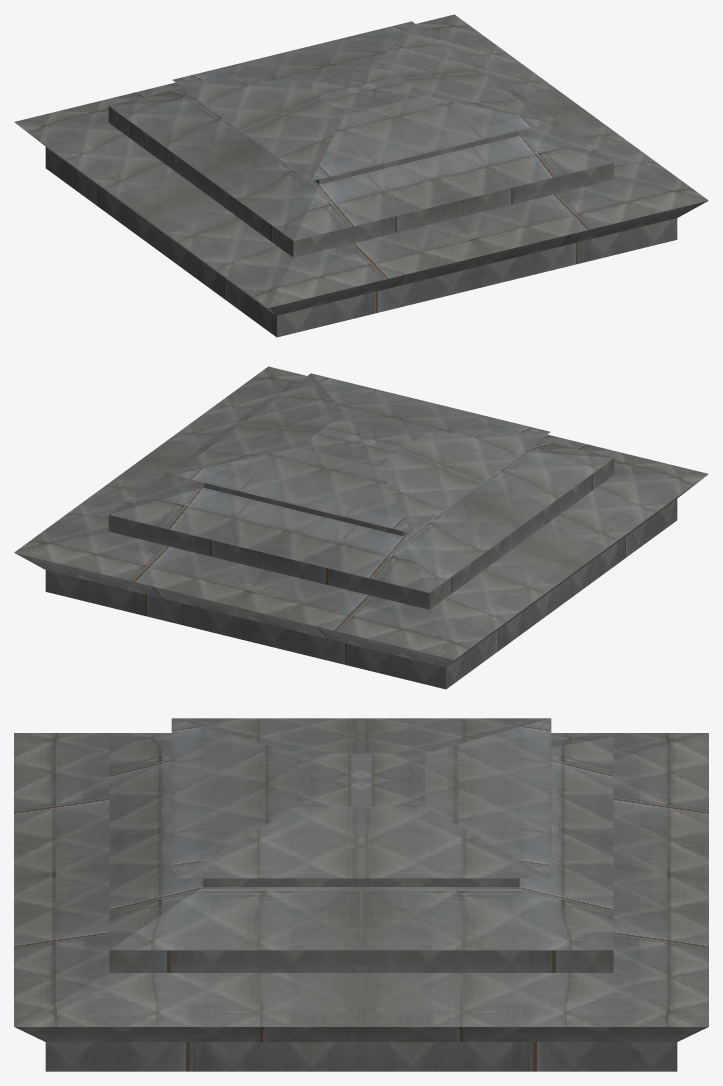
File: vent1.glb
The picture shows the model from 3 angles, top to bottom: view 1: azimuth 30°, elevation 25°; view 2: azimuth 150°, elevation 25°; view 3: azimuth 270°, elevation 25°; orthographic projection. The views are drawn at different scales.
Parts seen in each view (by area): view 1: vent-1-col; view 2: vent-1-col; view 3: vent-1-col.
Part boxes in pixels (left/top/right/bottom): vent-1-col: left=14, top=14, right=708, bottom=337; vent-1-col: left=14, top=366, right=708, bottom=689; vent-1-col: left=14, top=718, right=708, bottom=1071.
Size of the model in its own units: 2.2 by 0.5519 by 2.2.
Materials: 1 (1 with a texture image).
